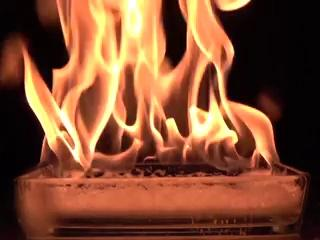Fire: (4, 1, 274, 181)
